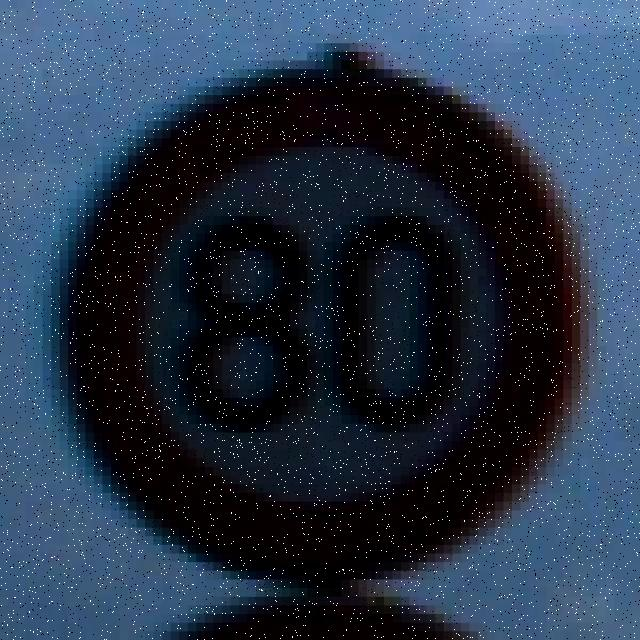Ograniczenie predkosci do 80: (57, 65, 575, 597)
